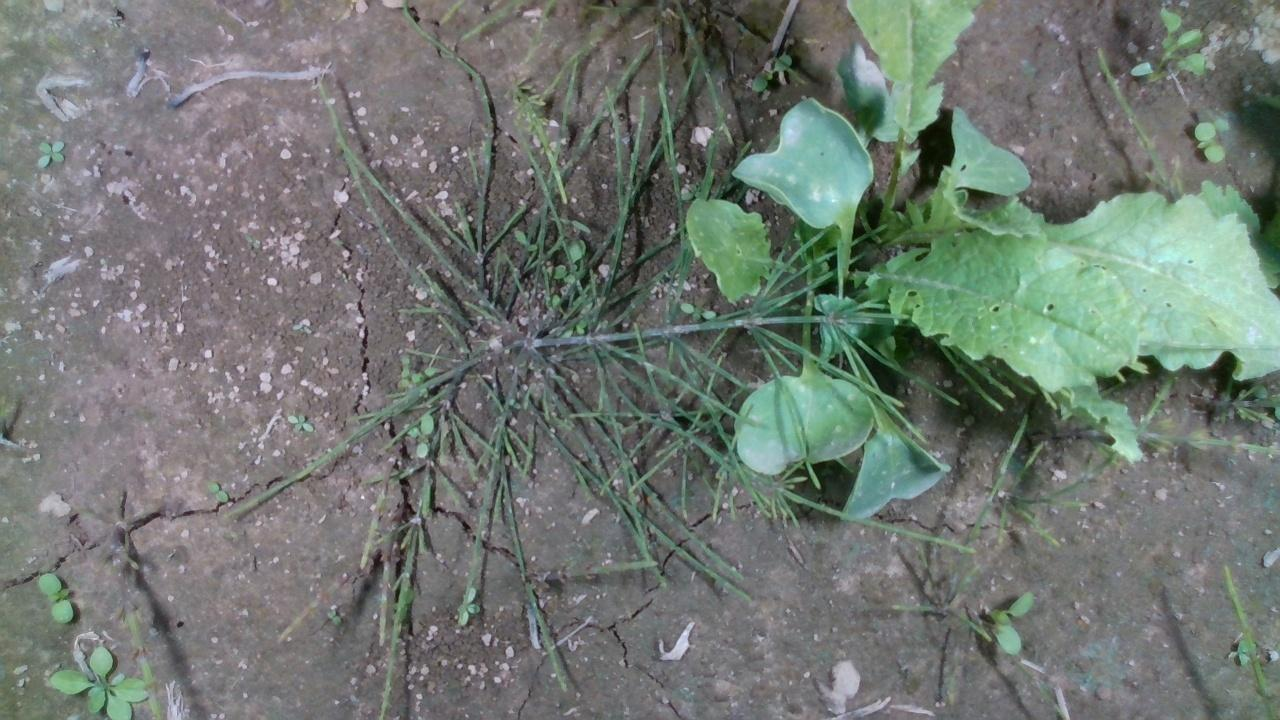weed: (35, 571, 73, 624), (285, 410, 315, 434), (206, 479, 228, 502)
